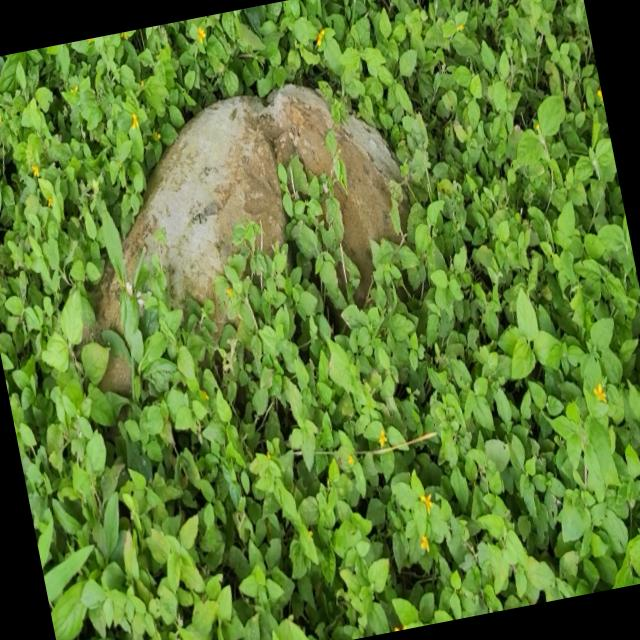grass: (0, 0, 640, 640)
stone: (122, 85, 332, 302), (336, 115, 399, 295)
